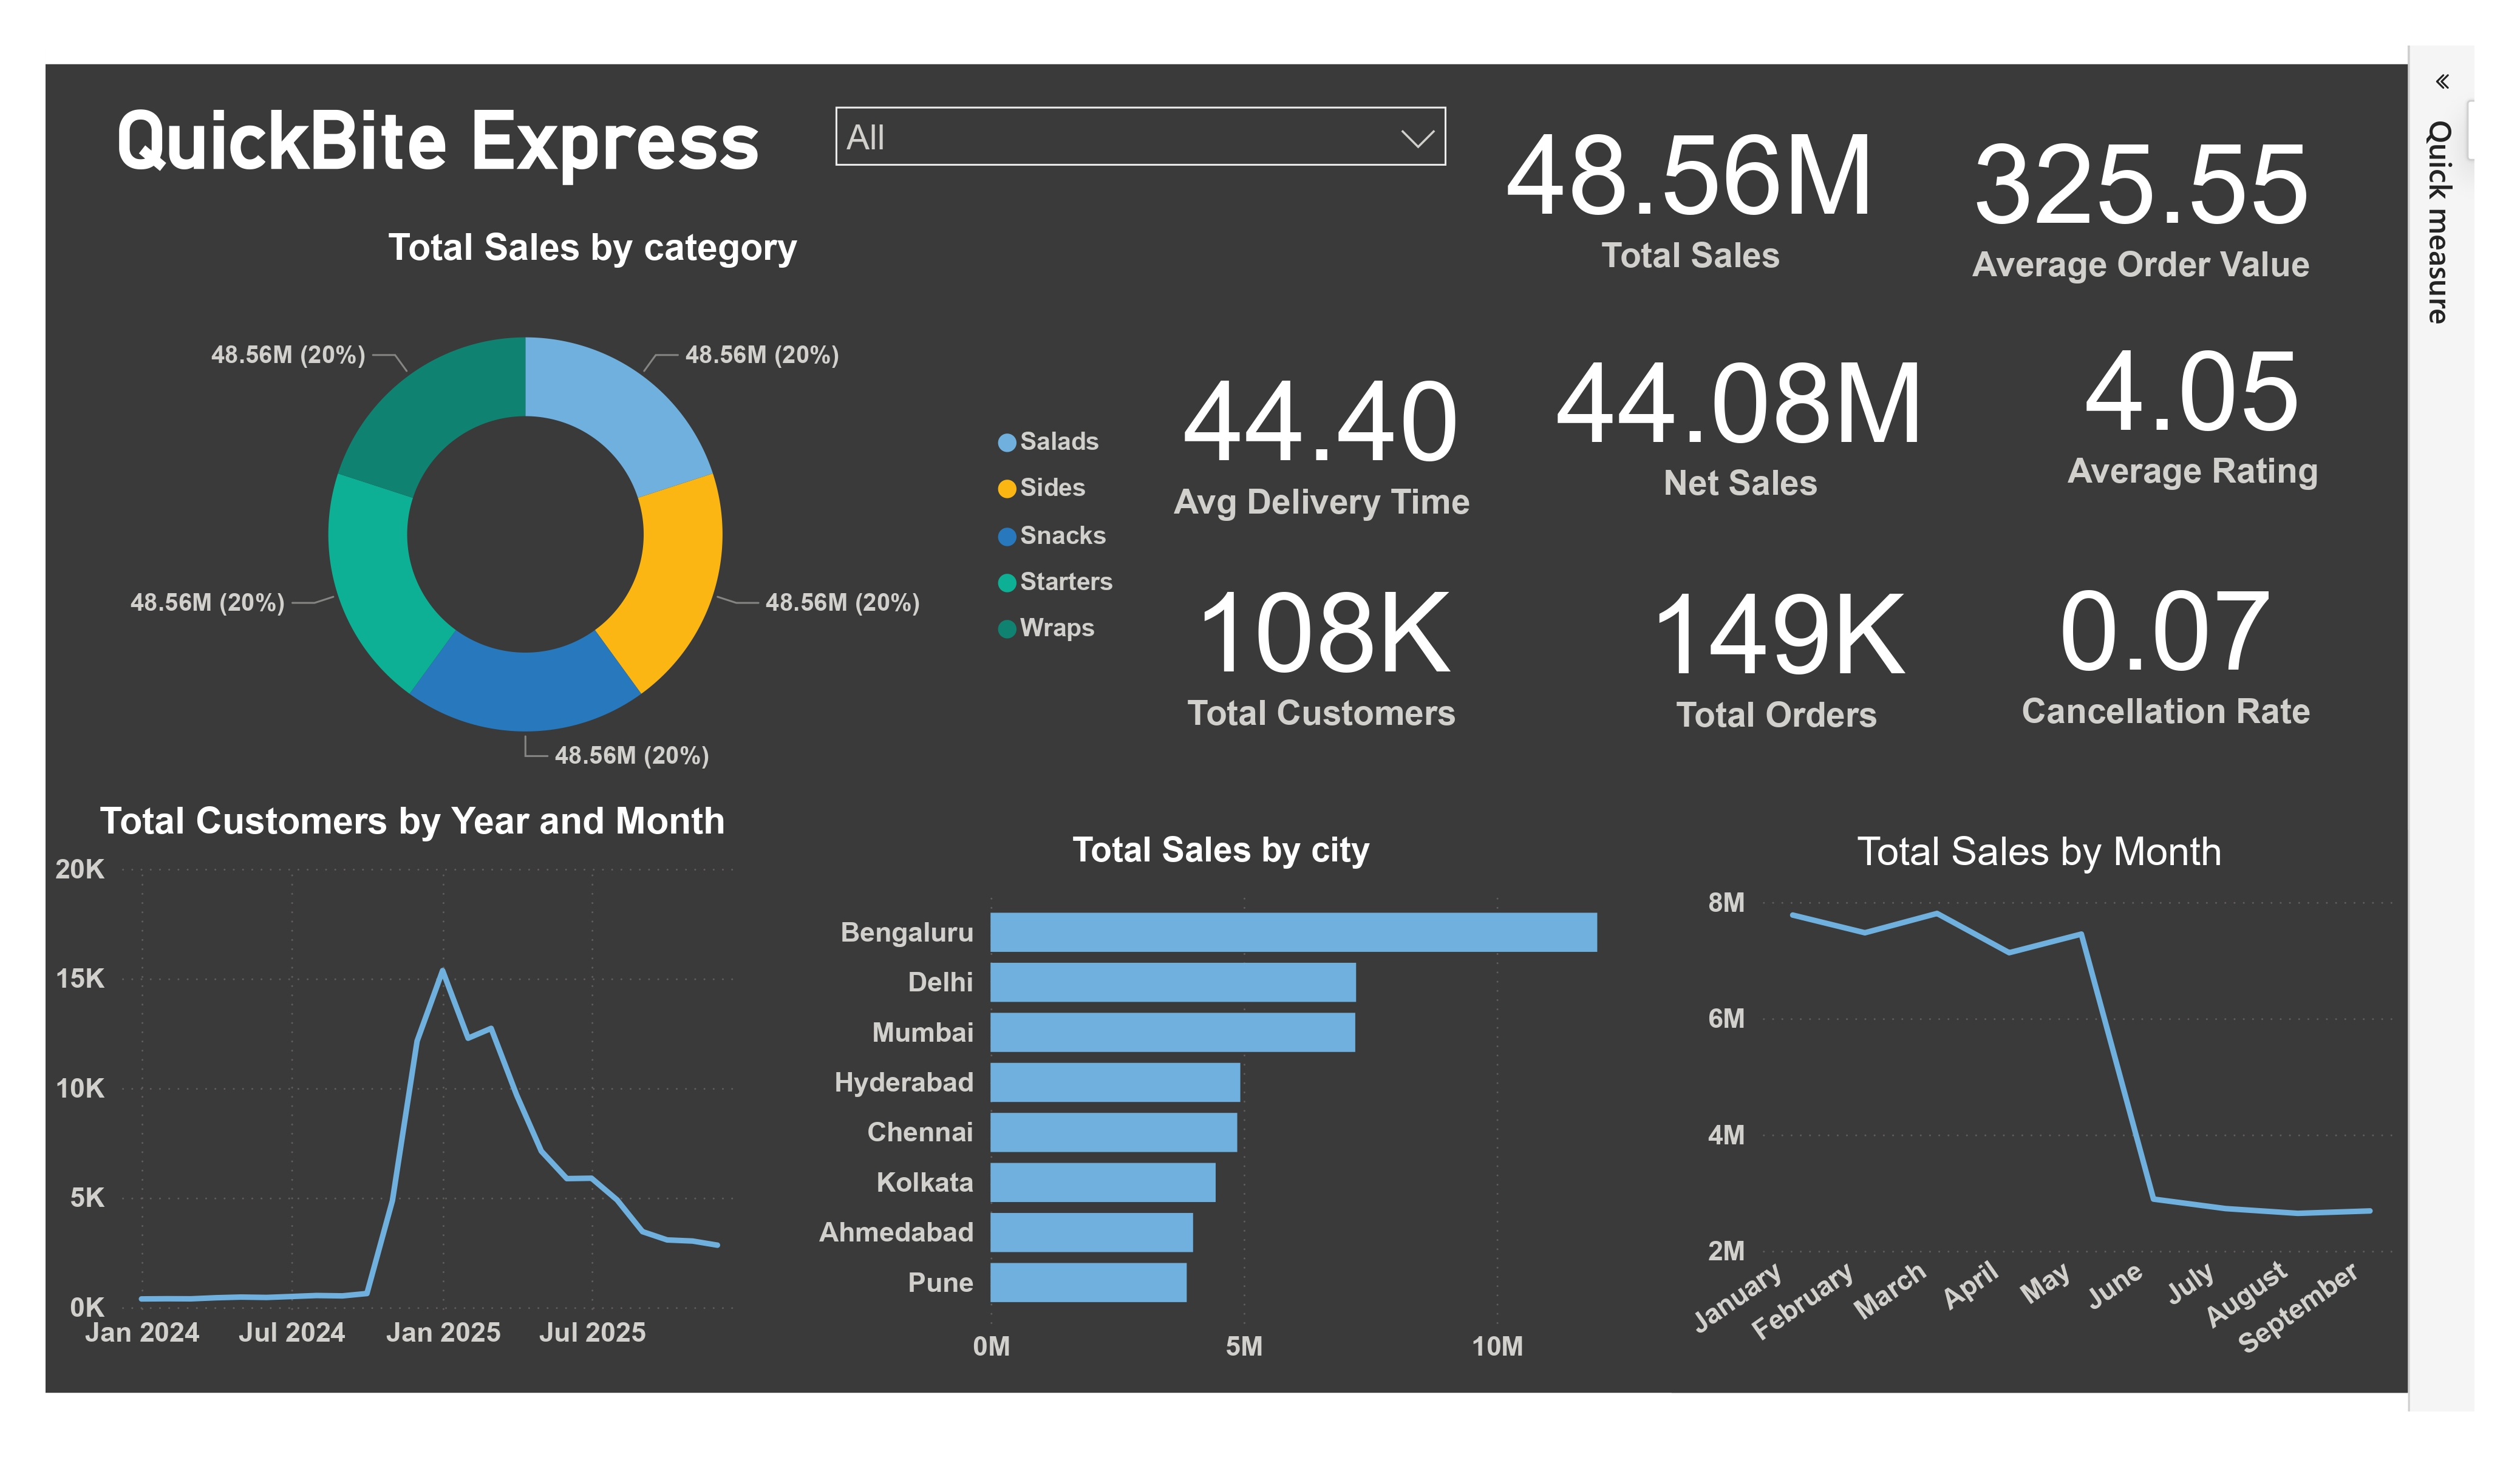

Layout of this report page (visuals, bound fields, positions):
{"tool":"powerbi","page":{"name":"Page 1","canvas":[1280,720],"ordinal":0},"visuals":[{"type":"card","fields":{"Values":["dim_customer.Total Sales"]},"box":[781.6,11,219.6,109.2],"z":0},{"type":"card","fields":{"Values":["dim_customer.Total Customers"]},"box":[592.6,256.4,197.5,114.1],"z":1},{"type":"card","fields":{"Values":["dim_customer.Total Orders"]},"box":[861.4,257.7,153.4,112.9],"z":2},{"type":"card","fields":{"Values":["dim_customer.Net Sales"]},"box":[804.9,130.1,227,117.8],"z":3},{"type":"card","fields":{"Values":["dim_customer.Average Order Value"]},"box":[1031.9,13.5,207.4,114.1],"z":4},{"type":"card","fields":{"Values":["dim_customer.Cancellation Rate"]},"box":[1058.9,245.4,180.4,135],"z":5},{"type":"card","fields":{"Values":["dim_customer.Average Rating"]},"box":[1088.3,120.2,150.9,125.2],"z":6},{"type":"card","fields":{"Values":["dim_customer.Avg Delivery Time"]},"box":[592.6,142.3,197.5,114.1],"z":7},{"type":"lineChart","fields":{"Category":["fact_orders.order_timestamp.Variation.Date Hierarchy.Month"],"Y":["dim_customer.Total Sales"]},"box":[881,414.7,398.8,305.5],"z":8},{"type":"barChart","fields":{"Category":["dim_restaurant.city"],"Y":["dim_customer.Total Sales"]},"box":[413.5,414.7,447.9,296.9],"z":9},{"type":"donutChart","fields":{"Category":["dim_menu_item.category"],"Y":["dim_customer.Total Sales"]},"box":[0,88.3,592.6,311.7],"z":10},{"type":"lineChart","fields":{"Y":["dim_customer.Total Customers"],"Category":["dim_customer.signup_date.Variation.Date Hierarchy.Year","dim_customer.signup_date.Variation.Date Hierarchy.Month"]},"box":[0,399.5,398.3,305],"z":11},{"type":"slicer","fields":{"Values":["fact_orders.order_timestamp.Variation.Date Hierarchy.Month"]},"box":[417.6,13.3,351,56.9],"z":12},{"type":"textbox","box":[32.7,10.9,381.3,77.5],"z":13}]}

Visuals, with their boxes on the page's 1280x720 design canvas (x1, y1, x2, y2). These are canvas units, not pixel positions in the 2520x1457 screenshot, which may show the page scaled, cropped or inside an application window:
card - dim_customer.Total Sales: box=[782, 11, 1001, 120]
card - dim_customer.Total Customers: box=[593, 256, 790, 370]
card - dim_customer.Total Orders: box=[861, 258, 1015, 371]
card - dim_customer.Net Sales: box=[805, 130, 1032, 248]
card - dim_customer.Average Order Value: box=[1032, 14, 1239, 128]
card - dim_customer.Cancellation Rate: box=[1059, 245, 1239, 380]
card - dim_customer.Average Rating: box=[1088, 120, 1239, 245]
card - dim_customer.Avg Delivery Time: box=[593, 142, 790, 256]
lineChart - fact_orders.order_timestamp.Variation.Date Hierarchy.Month x dim_customer.Total Sales: box=[881, 415, 1280, 720]
barChart - dim_restaurant.city x dim_customer.Total Sales: box=[414, 415, 861, 712]
donutChart - dim_menu_item.category x dim_customer.Total Sales: box=[0, 88, 593, 400]
lineChart - dim_customer.Total Customers x dim_customer.signup_date.Variation.Date Hierarchy.Year: box=[0, 400, 398, 704]
slicer - fact_orders.order_timestamp.Variation.Date Hierarchy.Month: box=[418, 13, 769, 70]
textbox: box=[33, 11, 414, 88]
